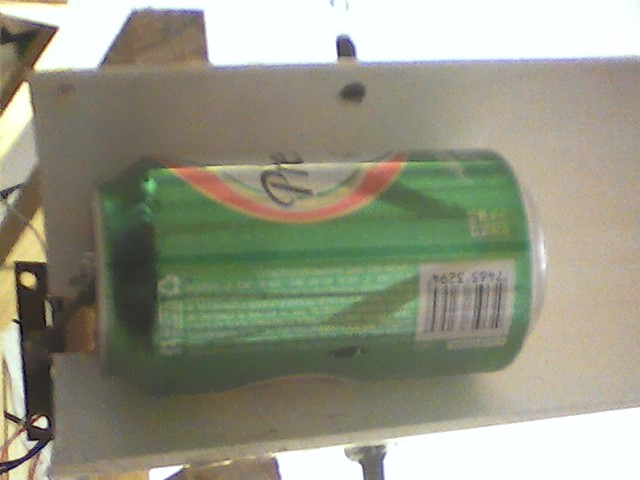lata: (86, 136, 557, 398)
